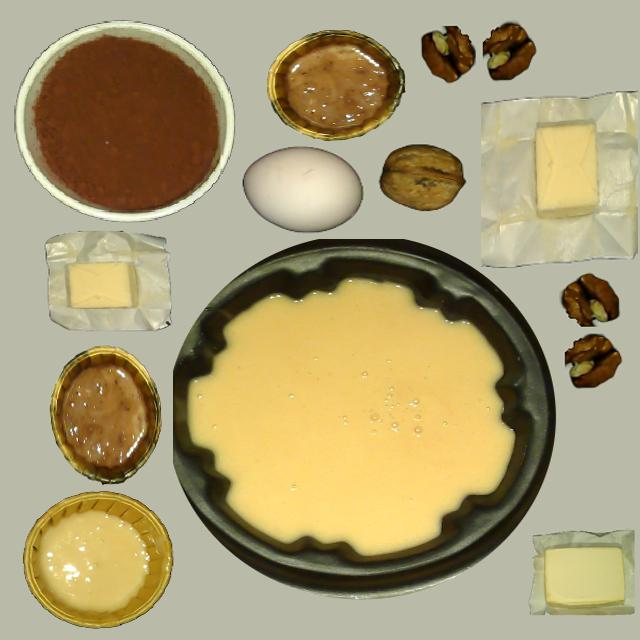Cocoa: (15, 20, 231, 222)
Walnut: (380, 144, 462, 210)
